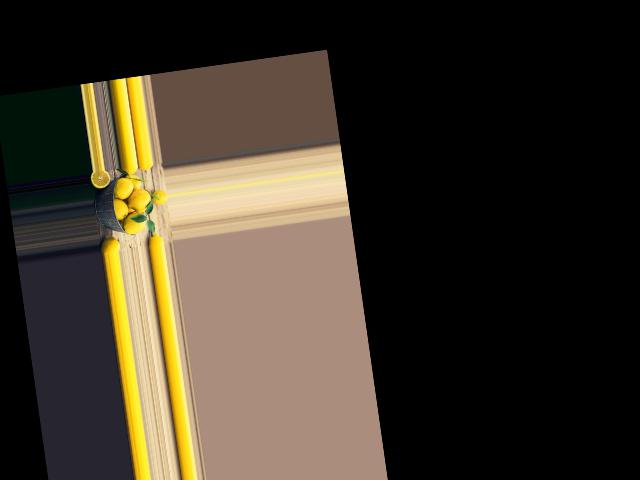lemon: (106, 176, 135, 203)
